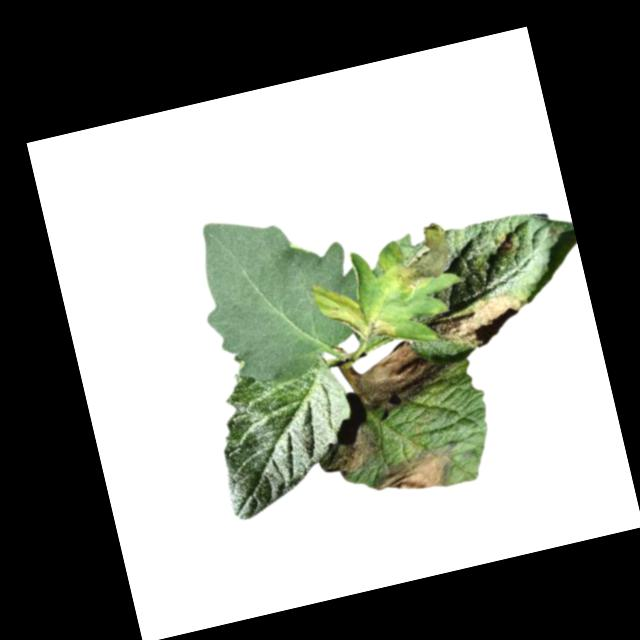Late_blight: (344, 332, 453, 416), (422, 289, 532, 362), (376, 220, 458, 298), (368, 440, 466, 502), (326, 283, 398, 350), (323, 423, 386, 478), (493, 231, 516, 254)
healthy: (184, 193, 375, 395), (198, 351, 368, 523)
